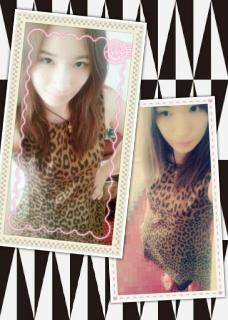vest: (11, 83, 113, 245), (140, 146, 214, 287)
